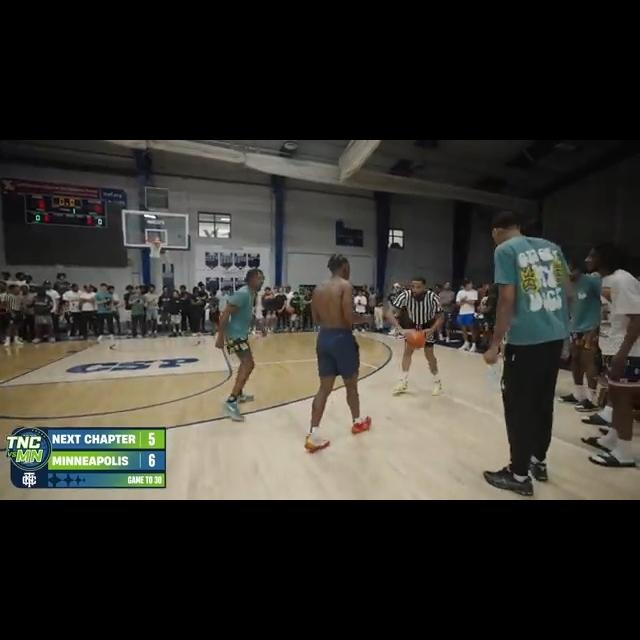basketball: (406, 330, 422, 349)
hoop: (145, 237, 163, 260)
